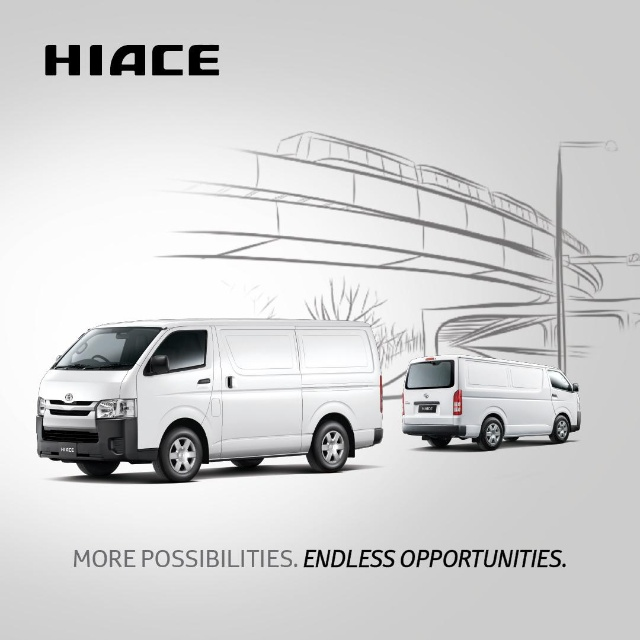Van: (35, 317, 383, 484), (400, 353, 581, 451)
